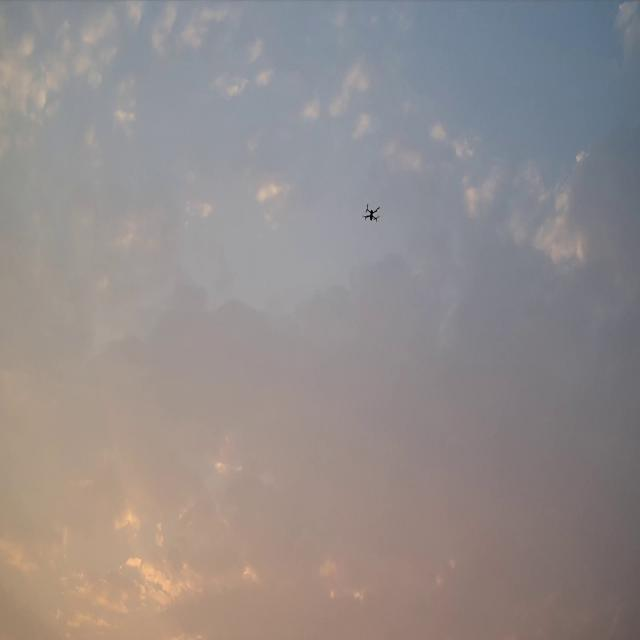UAV: (362, 203, 380, 222)
